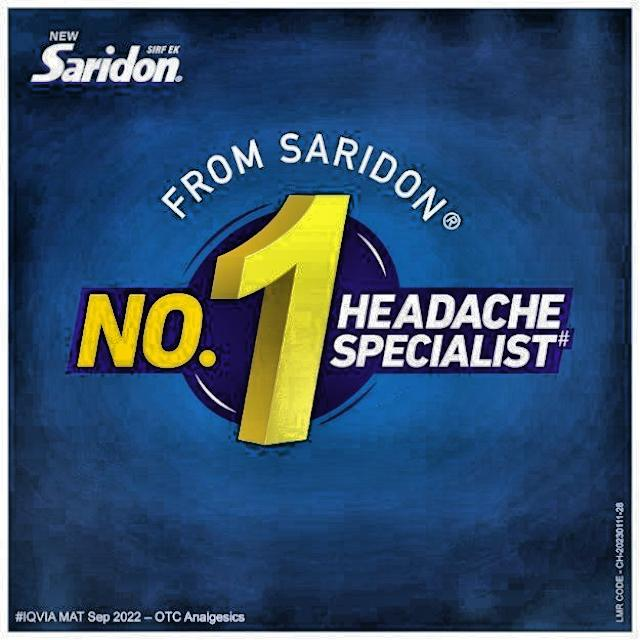Saridon: (27, 21, 245, 132)
